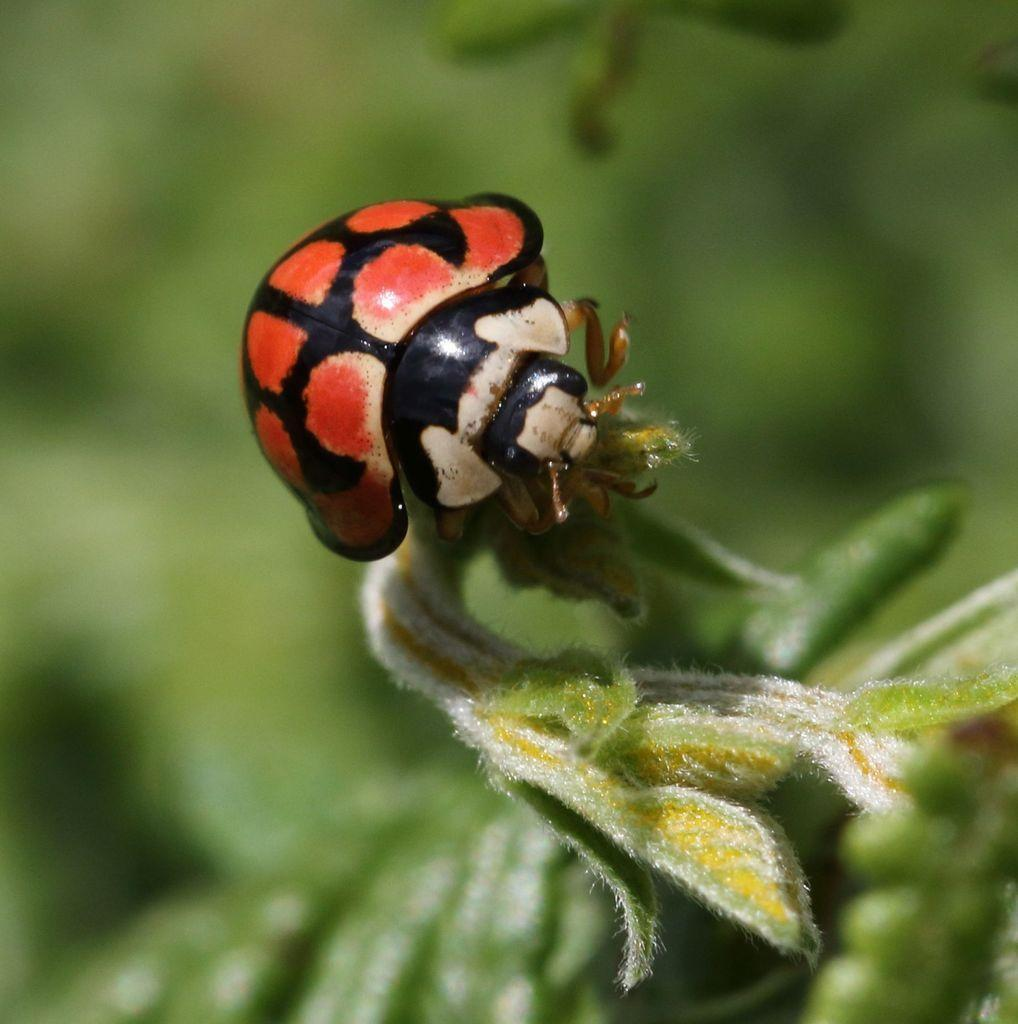ladybug: (236, 191, 669, 566)
